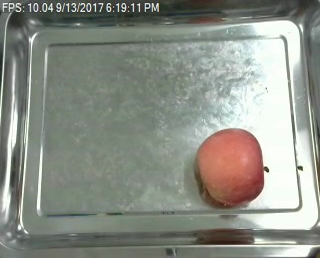Apple: (193, 128, 267, 209)
